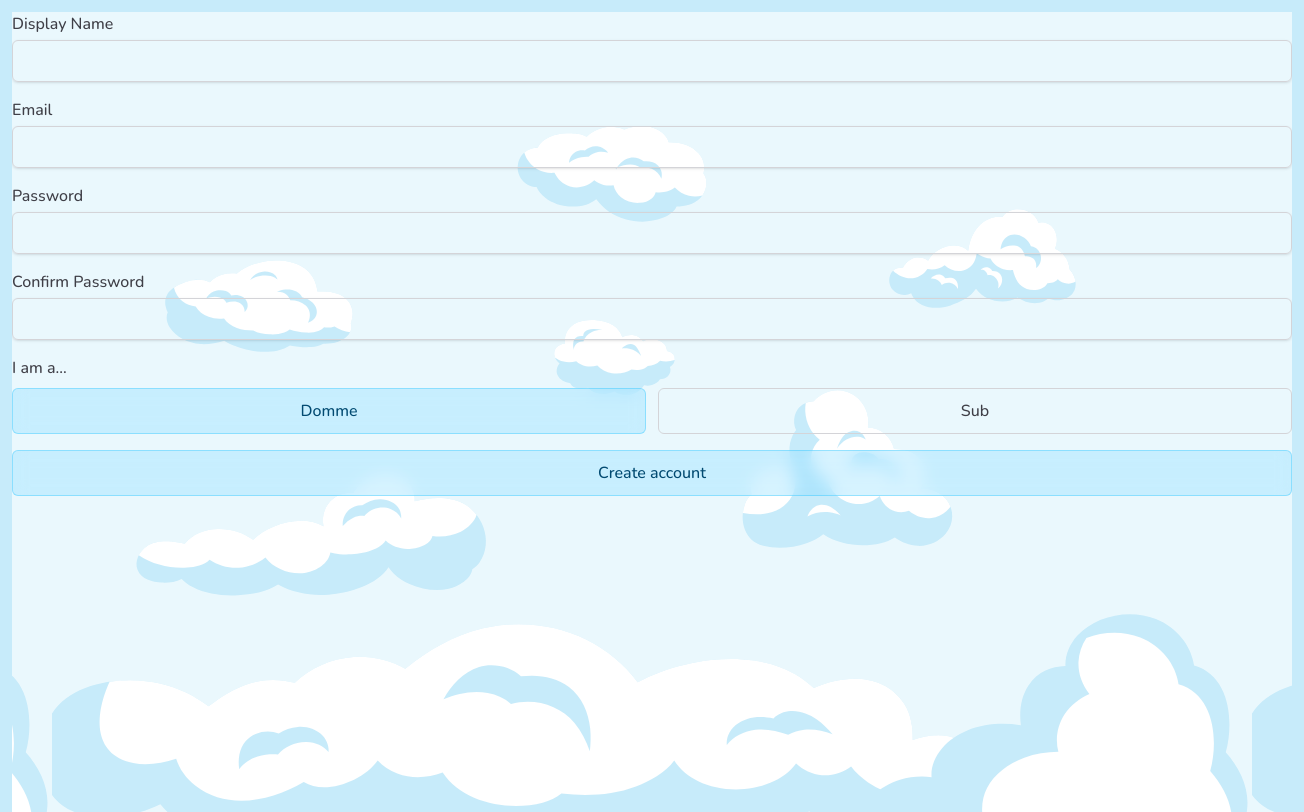
Test: RegisterForm › shows loading state during submission
This screenshot has width=1304, height=812.
Type "test@example.com" into the field labelled "Email". click: (652, 147)
box: x1=12 y1=126 x2=1292 y2=168
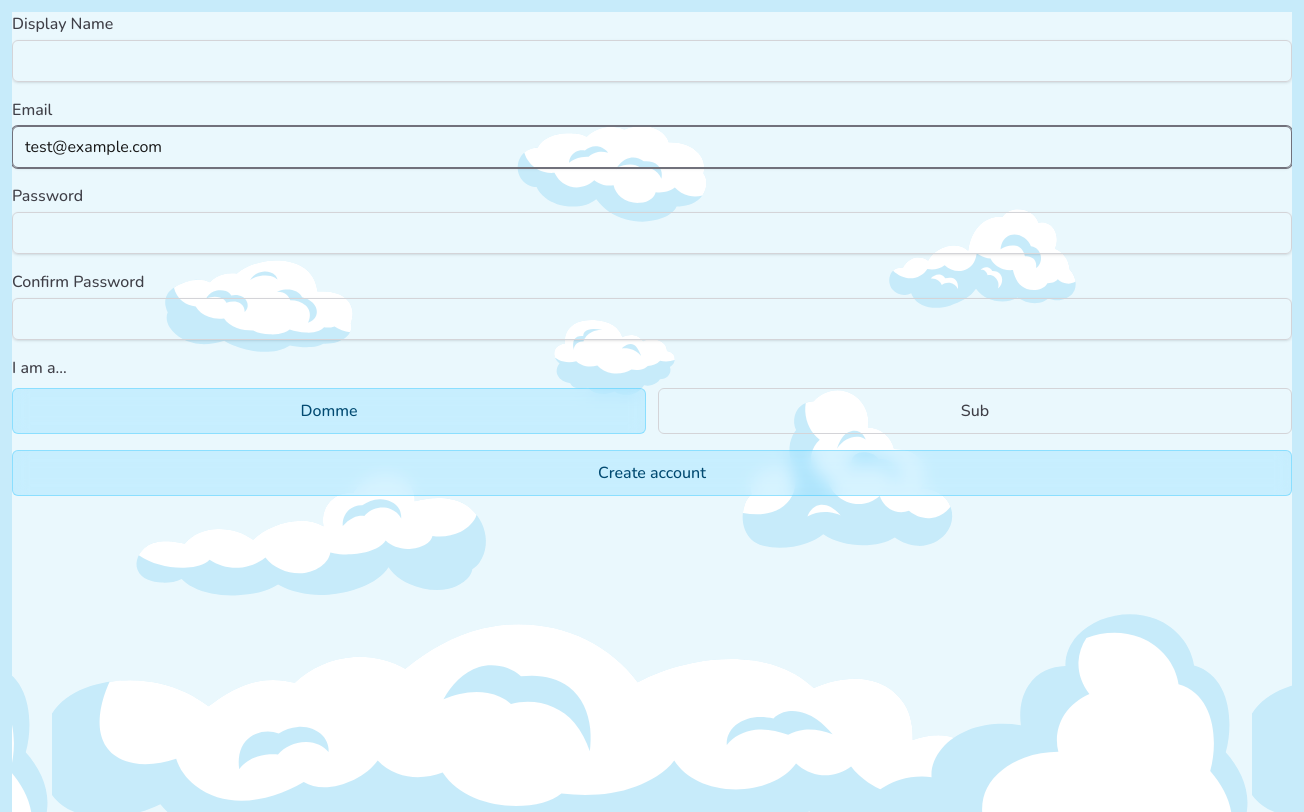
Type "password123" into the password field labelled "Password". click: (652, 233)
box: x1=12 y1=212 x2=1292 y2=254
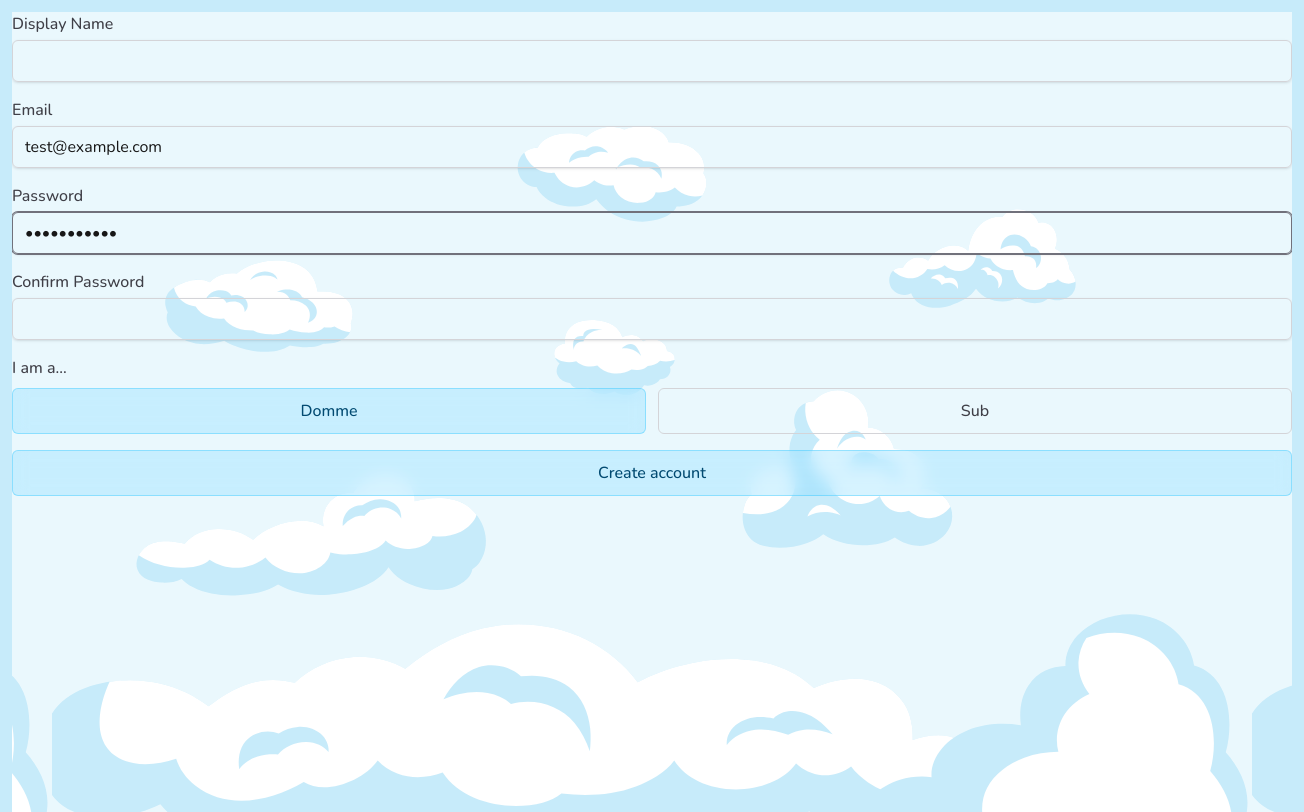
Type "password123" into the password field labelled "Confirm Password". click: (652, 319)
box: x1=12 y1=298 x2=1292 y2=340
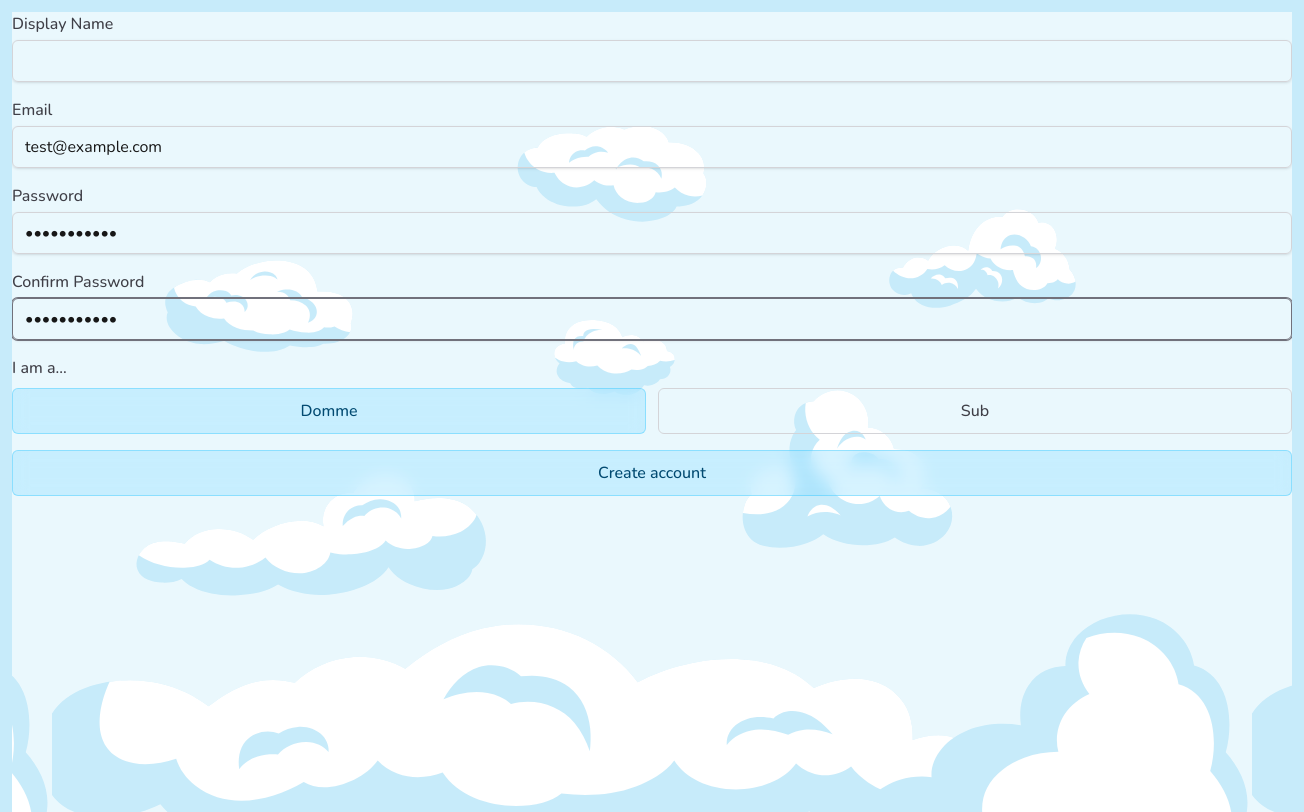
Click the button "Create account". click: click(652, 473)
box: x1=12 y1=450 x2=1292 y2=496
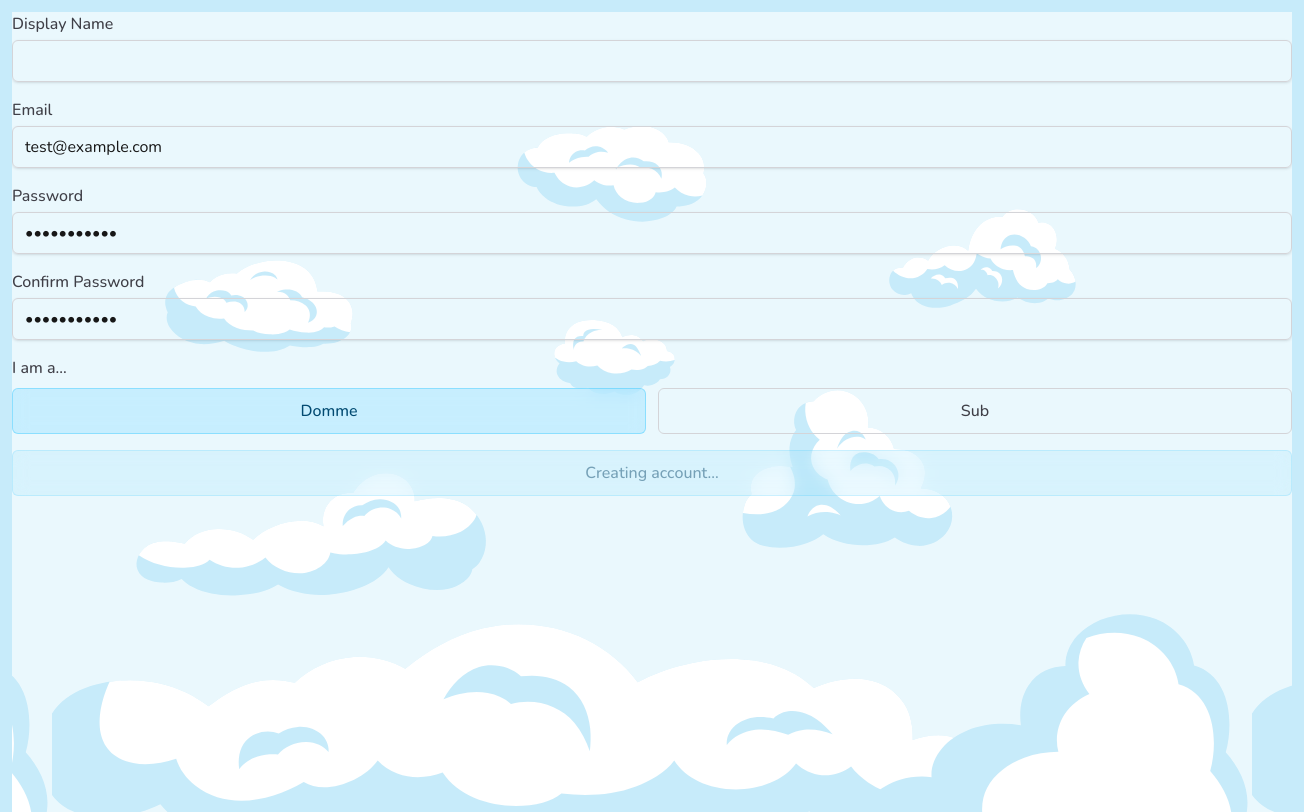
expect the button "Creating account..." is shown: met, box x1=12 y1=450 x2=1292 y2=496
